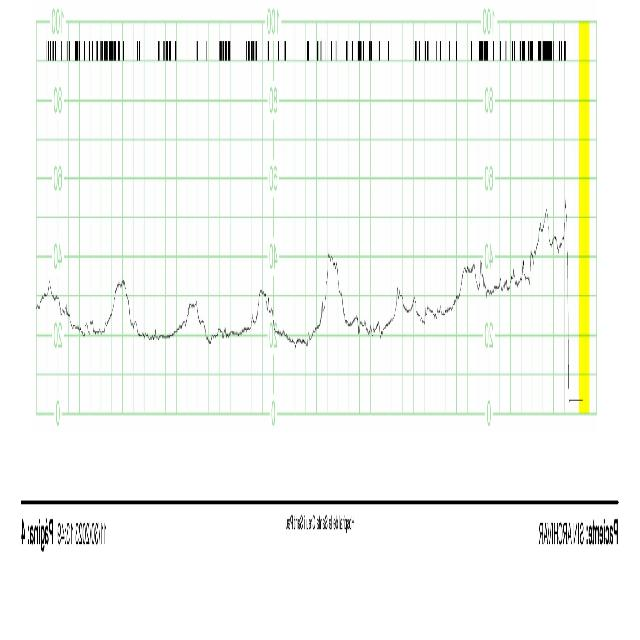contraction: (541, 191, 573, 400), (322, 243, 344, 342), (250, 278, 278, 347), (110, 268, 134, 344), (181, 288, 203, 359)
